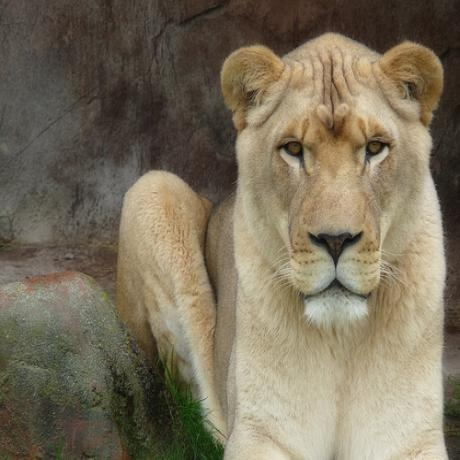Lion: (118, 33, 451, 460)
